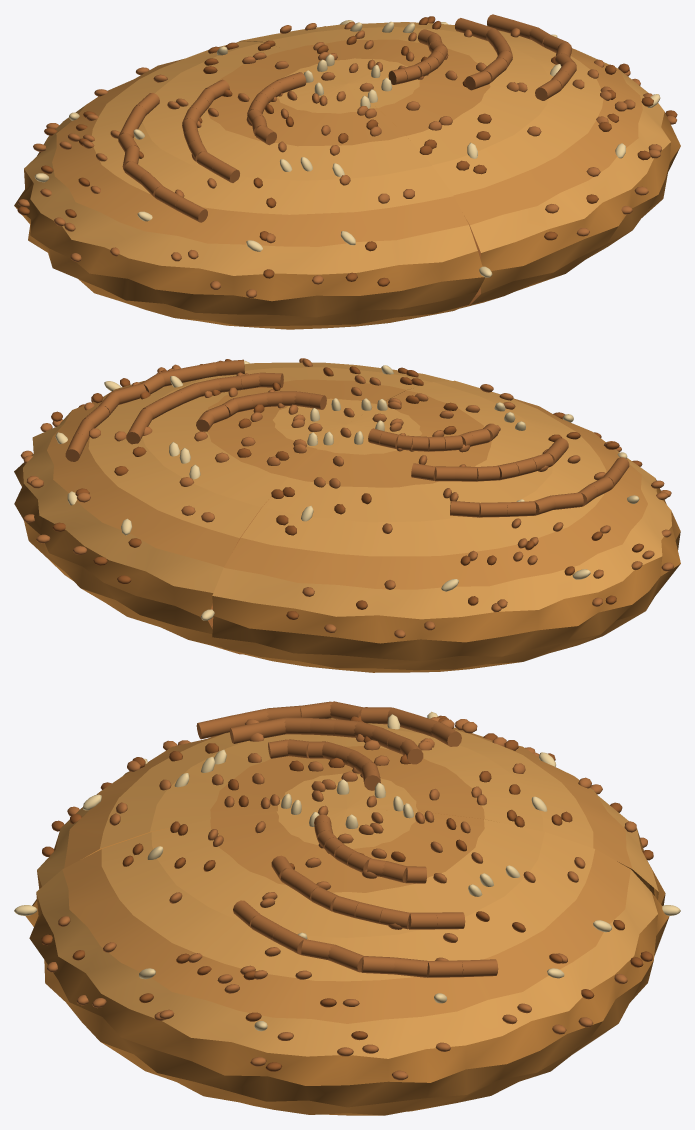
Rendered from scetis-turta.glb.
The picture shows the model from 3 angles, top to bottom: view 1: azimuth 30°, elevation 25°; view 2: azimuth 150°, elevation 25°; view 3: azimuth 270°, elevation 25°; orthographic projection. The views are drawn at different scales.
Parts seen in each view (by area): view 1: crust (×2); view 2: crust (×2); view 3: crust (×2).
Boxes of the visible parts, <box> form: crust (×2): <box>14,14,680,329</box>; crust (×2): <box>14,358,680,672</box>; crust (×2): <box>14,701,680,1115</box>.
Bounding box in the file's own units: 1.23 × 0.3832 × 1.01.
